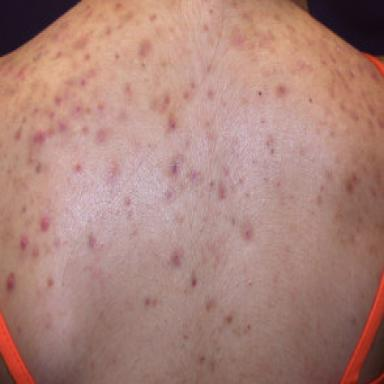acne: (33, 131, 46, 143), (7, 273, 15, 290), (20, 235, 29, 249), (41, 218, 49, 230), (15, 126, 22, 139), (59, 122, 67, 132), (75, 164, 82, 172)
